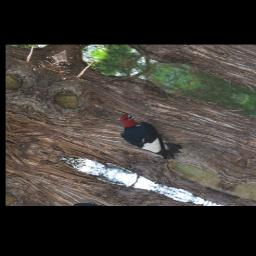Woodpecker: (101, 108, 197, 165)
